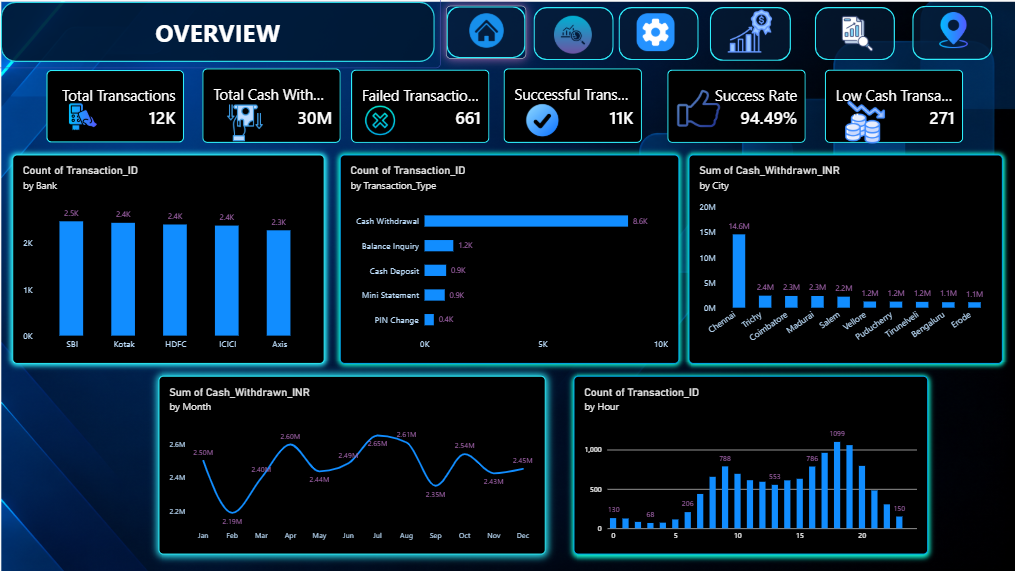

The page's visual inventory and layout, read from the dashboard file:
{"tool":"powerbi","page":{"name":"overview","canvas":[1920,1080],"ordinal":1},"visuals":[{"type":"barChart","fields":{"Category":["ATM_Transactions.Transaction_Type"],"Y":["CountNonNull(ATM_Transactions.Transaction_ID)"]},"box":[680.4,316.7,558.9,344.6],"z":0},{"type":"shape","box":[1000,73.2,132.1,87.5],"z":1000},{"type":"shape","box":[1625,71.4,132.1,89.3],"z":2000},{"type":"columnChart","fields":{"Category":["ATM_Transactions.Bank"],"Y":["CountNonNull(ATM_Transactions.Transaction_ID)"]},"box":[142.9,316.1,514.3,344.6],"z":3000},{"type":"columnChart","fields":{"Category":["ATM_Transactions.Hour"],"Y":["CountNonNull(ATM_Transactions.Transaction_ID)"]},"box":[1066.1,682.1,583.9,294.6],"z":4000},{"type":"columnChart","fields":{"Category":["ATM_Transactions.City"],"Y":["Sum(ATM_Transactions.Cash_Withdrawn_INR)"]},"box":[1255.9,316.7,517.9,344.6],"z":5000},{"type":"lineChart","fields":{"Category":["ATM_Transactions.Month"],"Y":["Sum(ATM_Transactions.Cash_Withdrawn_INR)"]},"box":[382.1,682.1,637.5,294.6],"z":6000},{"type":"image","box":[1650,78.6,82.1,67.9],"z":7000},{"type":"image","box":[1019.6,87.5,92.9,62.5],"z":8000},{"type":"shape","box":[1290.3,74.2,133.9,88.7],"z":9000},{"type":"shape","box":[1462.5,73.2,132.1,87.5],"z":10000},{"type":"image","box":[1303,76,107.1,75],"z":11000},{"type":"image","box":[1473.2,87.5,119.6,58.9],"z":12000},{"type":"shape","box":[114,56.1,734.7,119.4],"z":13000},{"type":"shape","box":[855.4,71.4,132.1,87.5],"z":14000},{"type":"image","box":[866.1,83.9,112.5,57.1],"z":15000},{"type":"shape","box":[1141.1,75,132.1,87.5],"z":16000},{"type":"image","box":[1163.6,85.1,76.8,62.5],"z":17000},{"type":"cardVisual","fields":{"Data":["ATM_Transactions.Total Transactions"]},"box":[197.3,177.3,228,121.2],"z":18000},{"type":"cardVisual","fields":{"Data":["ATM_Transactions.Total Cash Withdrawn"]},"box":[454.2,175.5,228,123.1],"z":19000},{"type":"cardVisual","fields":{"Data":["ATM_Transactions.Failed Transactions"]},"box":[700.3,177.3,228,121.2],"z":20000},{"type":"cardVisual","fields":{"Data":["ATM_Master.Successful Transactions"]},"box":[951.9,175.5,228,123.1],"z":21000},{"type":"cardVisual","fields":{"Data":["ATM_Transactions.Success Rate"]},"box":[1221.5,177.3,228,121.2],"z":22000},{"type":"cardVisual","fields":{"Data":["ATM_Transactions.Low Cash Transactions"]},"box":[1480.3,177.3,228,121.2],"z":23000},{"type":"image","box":[182.8,228,150.2,52.5],"z":24000},{"type":"image","box":[481.4,233.4,86.9,65.1],"z":25000},{"type":"image","box":[700.3,228,95.9,65.1],"z":26000},{"type":"image","box":[979,233.4,70.6,56.1],"z":27000},{"type":"image","box":[1234.2,202.7,74.2,79.6],"z":28000},{"type":"image","box":[1498.4,228,95.9,70.6],"z":29000}]}

Visuals, with their boxes in screenshot pixels (x1, y1, x2, y2), scaled from the page's 1920x1080 canvas onto the 1015x571 screenshot:
barChart - ATM_Transactions.Transaction_Type x CountNonNull(ATM_Transactions.Transaction_ID): x1=360, y1=167, x2=655, y2=350
shape: x1=529, y1=39, x2=598, y2=85
shape: x1=859, y1=38, x2=929, y2=85
columnChart - ATM_Transactions.Bank x CountNonNull(ATM_Transactions.Transaction_ID): x1=76, y1=167, x2=347, y2=349
columnChart - ATM_Transactions.Hour x CountNonNull(ATM_Transactions.Transaction_ID): x1=564, y1=361, x2=872, y2=516
columnChart - ATM_Transactions.City x Sum(ATM_Transactions.Cash_Withdrawn_INR): x1=664, y1=167, x2=938, y2=350
lineChart - ATM_Transactions.Month x Sum(ATM_Transactions.Cash_Withdrawn_INR): x1=202, y1=361, x2=539, y2=516
image: x1=872, y1=42, x2=916, y2=77
image: x1=539, y1=46, x2=588, y2=79
shape: x1=682, y1=39, x2=753, y2=86
shape: x1=773, y1=39, x2=843, y2=85
image: x1=689, y1=40, x2=745, y2=80
image: x1=779, y1=46, x2=842, y2=77
shape: x1=60, y1=30, x2=449, y2=93
shape: x1=452, y1=38, x2=522, y2=84
image: x1=458, y1=44, x2=517, y2=75
shape: x1=603, y1=40, x2=673, y2=86
image: x1=615, y1=45, x2=656, y2=78
cardVisual - ATM_Transactions.Total Transactions: x1=104, y1=94, x2=225, y2=158
cardVisual - ATM_Transactions.Total Cash Withdrawn: x1=240, y1=93, x2=361, y2=158
cardVisual - ATM_Transactions.Failed Transactions: x1=370, y1=94, x2=491, y2=158
cardVisual - ATM_Master.Successful Transactions: x1=503, y1=93, x2=624, y2=158
cardVisual - ATM_Transactions.Success Rate: x1=646, y1=94, x2=766, y2=158
cardVisual - ATM_Transactions.Low Cash Transactions: x1=783, y1=94, x2=903, y2=158
image: x1=97, y1=121, x2=176, y2=148
image: x1=254, y1=123, x2=300, y2=158
image: x1=370, y1=121, x2=421, y2=155
image: x1=518, y1=123, x2=555, y2=153
image: x1=652, y1=107, x2=692, y2=149
image: x1=792, y1=121, x2=843, y2=158
